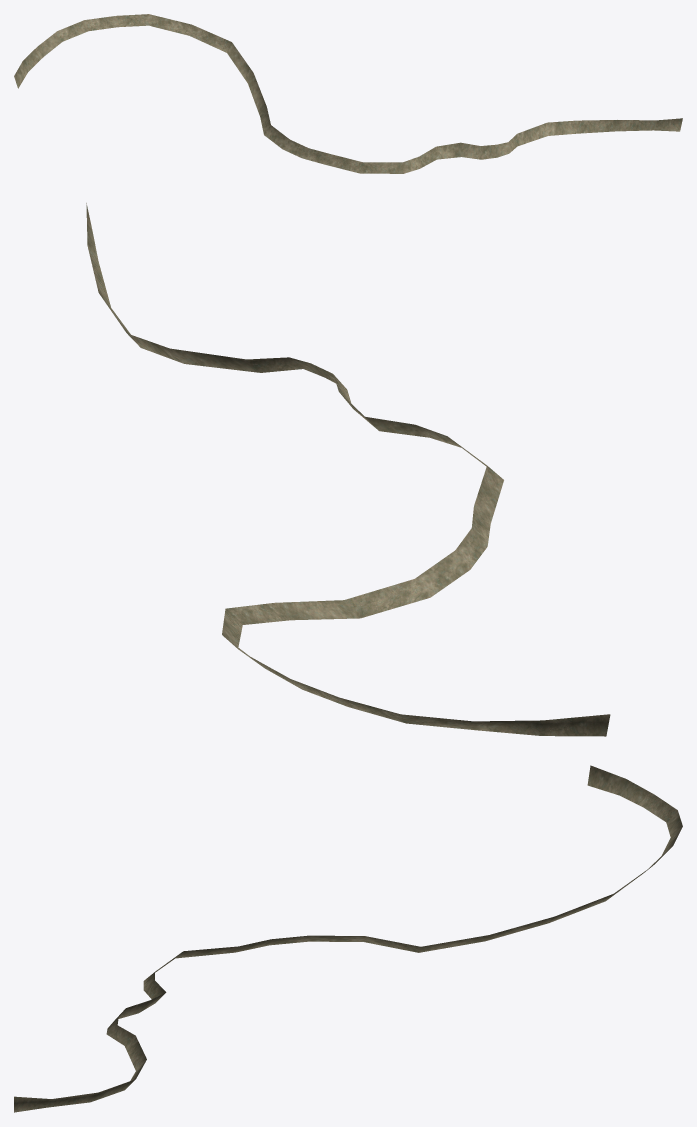
The model's file is EKH_JAIL_PS_JA_BASE_TRIM11029.fbx.
3 views of the same model, one above another, from view 1: azimuth 30°, elevation 25°; view 2: azimuth 150°, elevation 25°; view 3: azimuth 270°, elevation 25° (orthographic). The views are drawn at different scales.
Parts seen in each view (by area): view 1: EKH_JAIL_PS_JA_BASE_TRIM11029; view 2: EKH_JAIL_PS_JA_BASE_TRIM11029; view 3: EKH_JAIL_PS_JA_BASE_TRIM11029.
Boxes of the visible parts, box(x1,y1,x2,y2) form: EKH_JAIL_PS_JA_BASE_TRIM11029: box(14, 14, 682, 173); EKH_JAIL_PS_JA_BASE_TRIM11029: box(86, 203, 610, 736); EKH_JAIL_PS_JA_BASE_TRIM11029: box(14, 765, 682, 1112).
Size of the model in its own units: 282078 by 28311 by 247800.
1 material, 1 textured.
